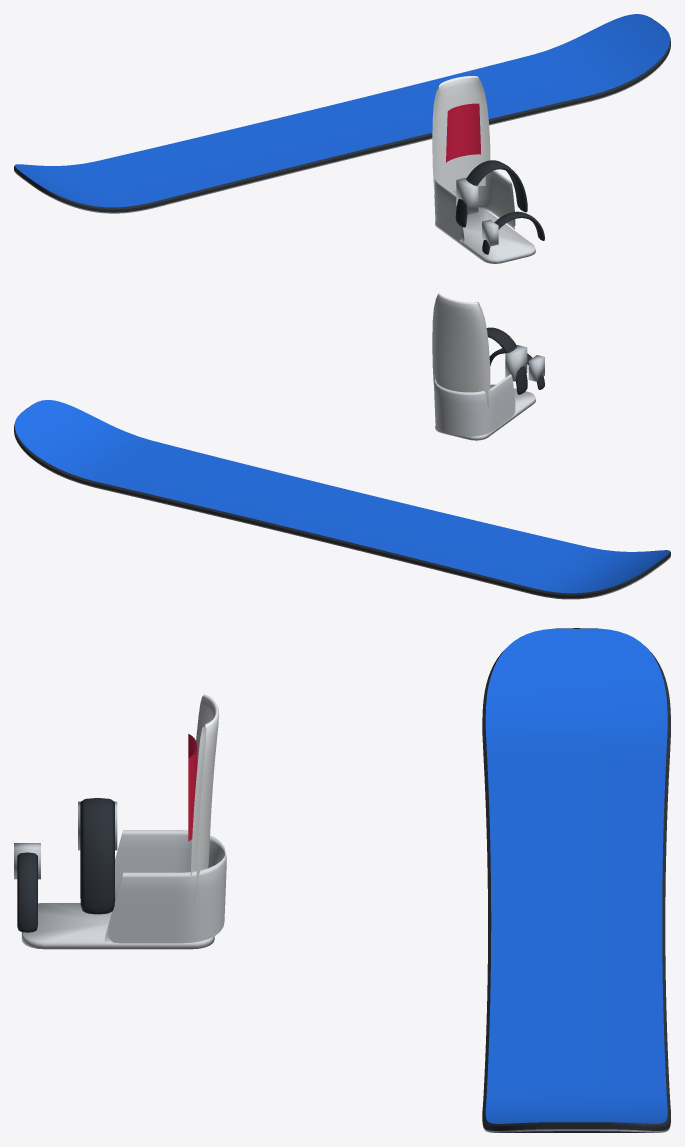
The model's file is gear.glb.
3 views of the same model, one above another, from view 1: azimuth 30°, elevation 25°; view 2: azimuth 150°, elevation 25°; view 3: azimuth 270°, elevation 25° (orthographic). The views are drawn at different scales.
Visible parts, largest first — view 1: Board, Highback, Heelcup, Base, Hbpad, AnkleStrap, Ratchets, ToeStrap; view 2: Board, Highback, Heelcup, Ratchets, AnkleStrap, Base; view 3: Board, Heelcup, Base, AnkleStrap, Highback, ToeStrap, Hbpad, Ratchets.
Boxes of the visible parts, x1,y1,x2,y2 form: Board: [14, 14, 670, 213]; Highback: [432, 76, 490, 196]; Heelcup: [434, 170, 515, 242]; Base: [435, 208, 535, 263]; Hbpad: [446, 103, 480, 162]; AnkleStrap: [455, 160, 527, 227]; Ratchets: [456, 177, 498, 246]; ToeStrap: [482, 211, 544, 254]; Board: [14, 400, 670, 599]; Highback: [432, 293, 490, 406]; Heelcup: [434, 374, 515, 436]; Ratchets: [505, 345, 544, 381]; AnkleStrap: [486, 327, 527, 394]; Base: [435, 384, 535, 440]; Board: [482, 628, 670, 1132]; Heelcup: [104, 830, 226, 943]; Base: [21, 903, 214, 949]; AnkleStrap: [80, 798, 114, 914]; Highback: [190, 694, 218, 899]; ToeStrap: [17, 852, 37, 932]; Hbpad: [188, 734, 197, 841]; Ratchets: [14, 801, 117, 879].
Size of the model in its own units: 1.55 by 0.3235 by 0.871.
